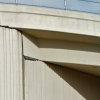Bridge: (5, 0, 91, 72)
